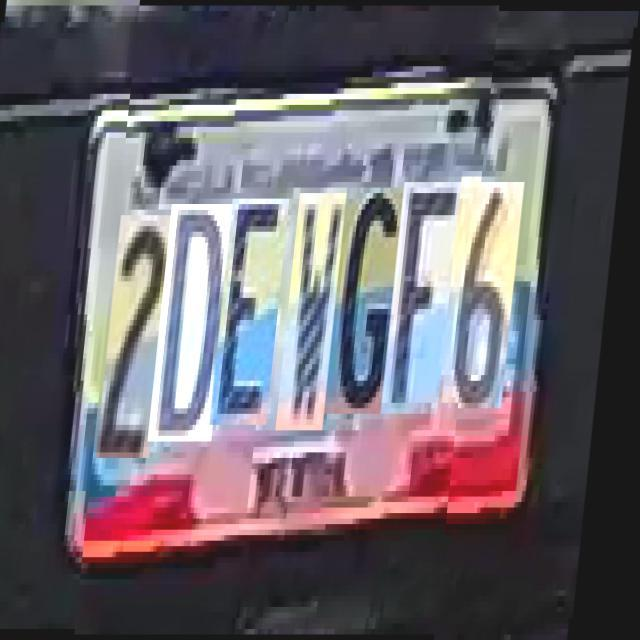2: (106, 215, 179, 458)
6: (447, 176, 529, 402)
D: (157, 204, 240, 442)
E: (218, 198, 294, 424)
F: (390, 182, 464, 414)
G: (333, 188, 415, 414)
W: (285, 193, 351, 430)
